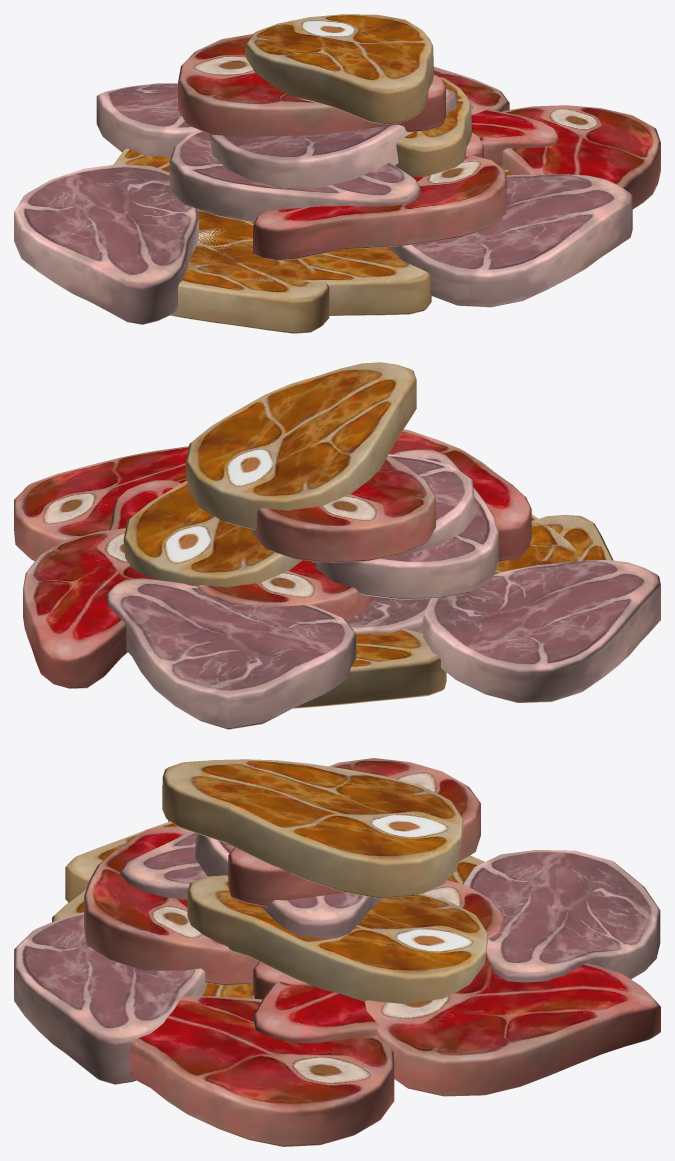
3 views of the same model, one above another, from view 1: azimuth 30°, elevation 25°; view 2: azimuth 150°, elevation 25°; view 3: azimuth 270°, elevation 25° (orthographic). The views are drawn at different scales.
Parts seen in each view (by area): view 1: SM_Dec_Pile_of_meats_LOD0; view 2: SM_Dec_Pile_of_meats_LOD0; view 3: SM_Dec_Pile_of_meats_LOD0.
Part boxes in pixels (x1,y1,x2,y2): SM_Dec_Pile_of_meats_LOD0: [14, 14, 660, 333]; SM_Dec_Pile_of_meats_LOD0: [14, 362, 660, 729]; SM_Dec_Pile_of_meats_LOD0: [14, 758, 660, 1146].
Size of the model in its own units: 0.7785 by 0.2421 by 0.6629.
Materials: 3 (3 with a texture image).
